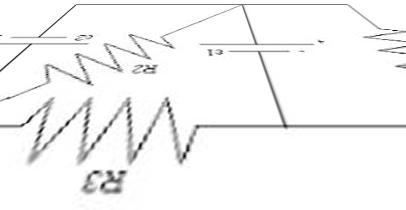resistor: (19, 100, 218, 163), (42, 14, 182, 92)
